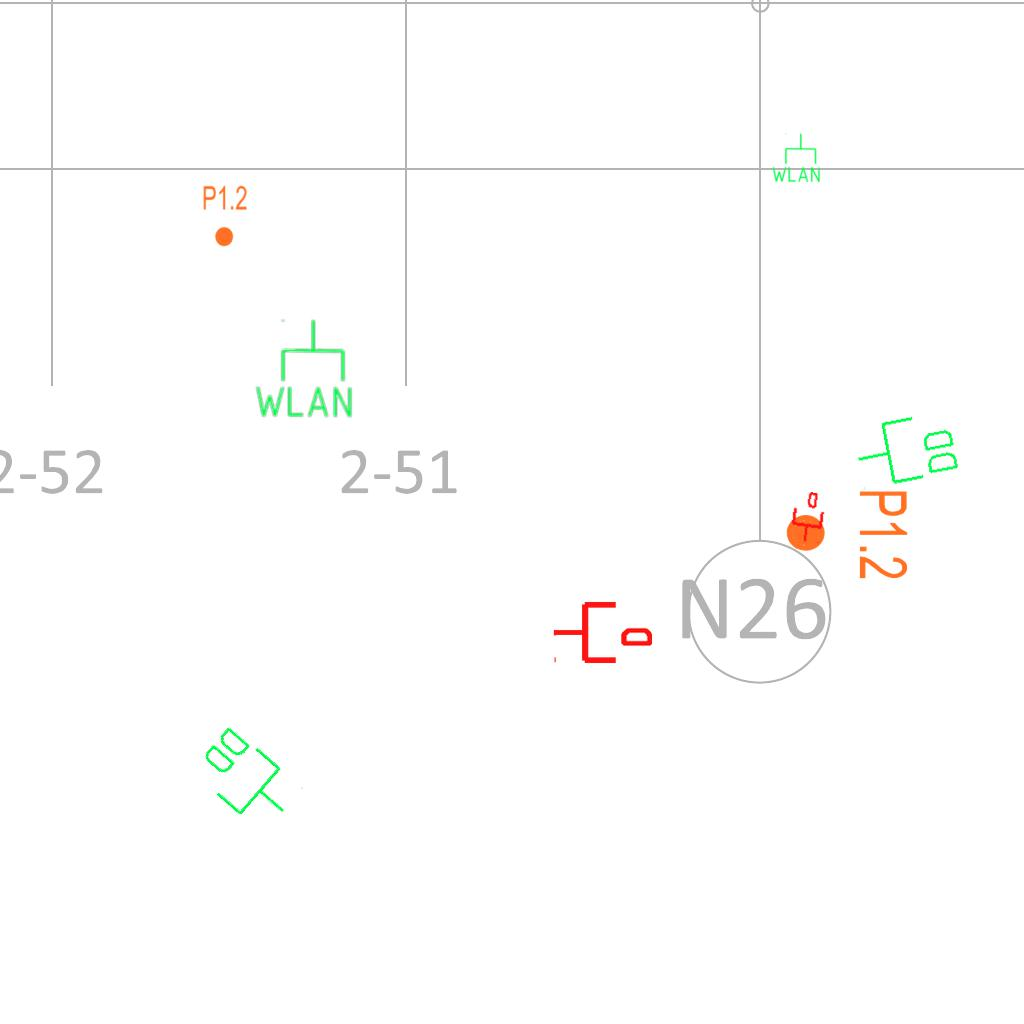Datenanschluss_einfach: (552, 598, 652, 667), (787, 489, 829, 545)
Datenanschluss_zweifach: (184, 718, 309, 839), (849, 406, 964, 495)
Downlight_LED_Einbauleuchten_Flur: (783, 488, 911, 581), (202, 184, 248, 248)
WLAN: (251, 317, 356, 421), (770, 132, 822, 184)
